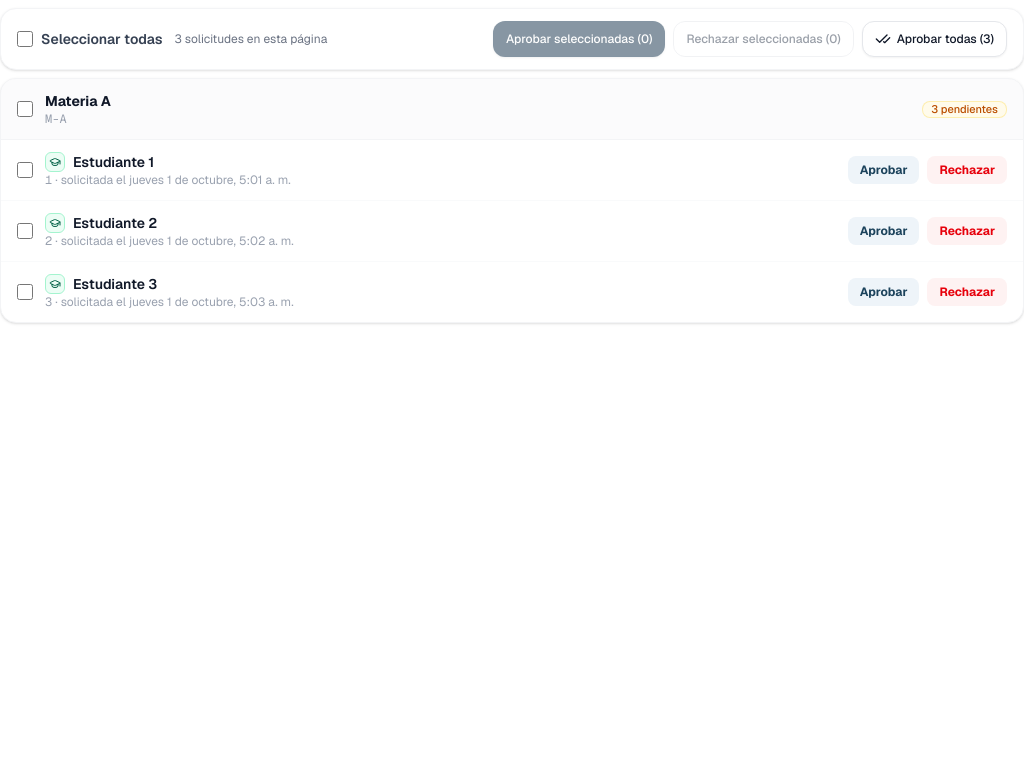
EnrollmentRequestsBoard › asks for confirmation, approves the selection and removes it from the list
What coordinates should you click on to do the following:
click the checkbox named "solicitud de Estudiante 1"
I would click on:
 (25, 170)
Its box is x1=17 y1=162 x2=33 y2=178.
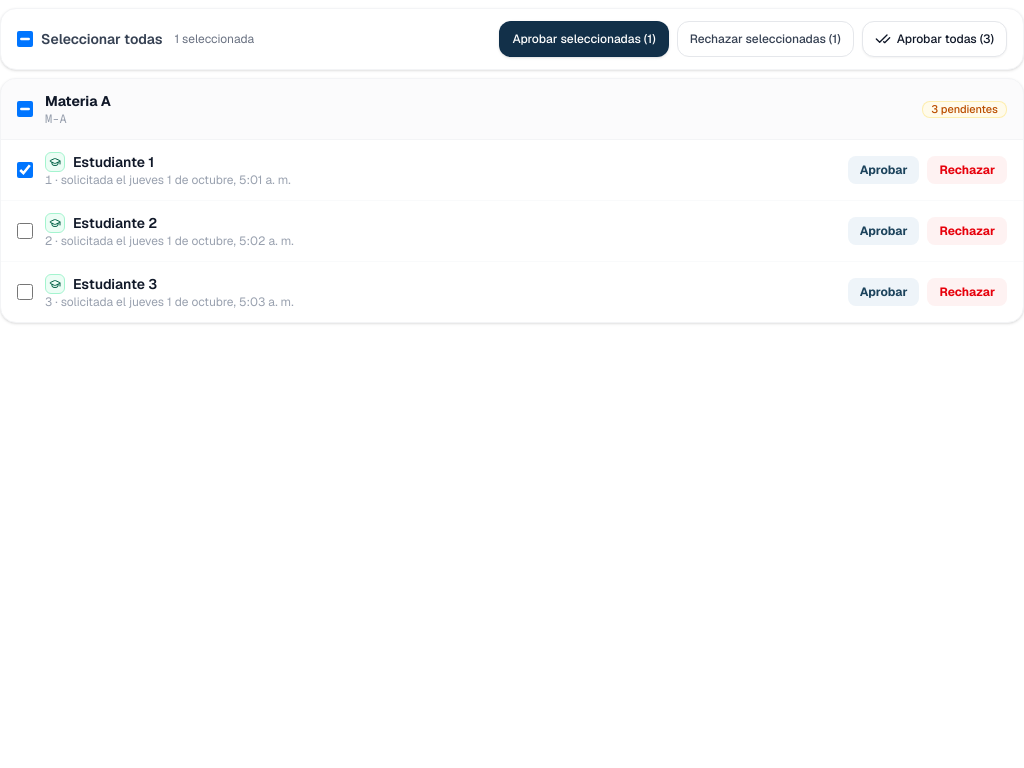
What coordinates should you click on to do the following:
click the checkbox named "solicitud de Estudiante 2"
I would click on:
 (25, 231)
Its box is x1=17 y1=223 x2=33 y2=239.
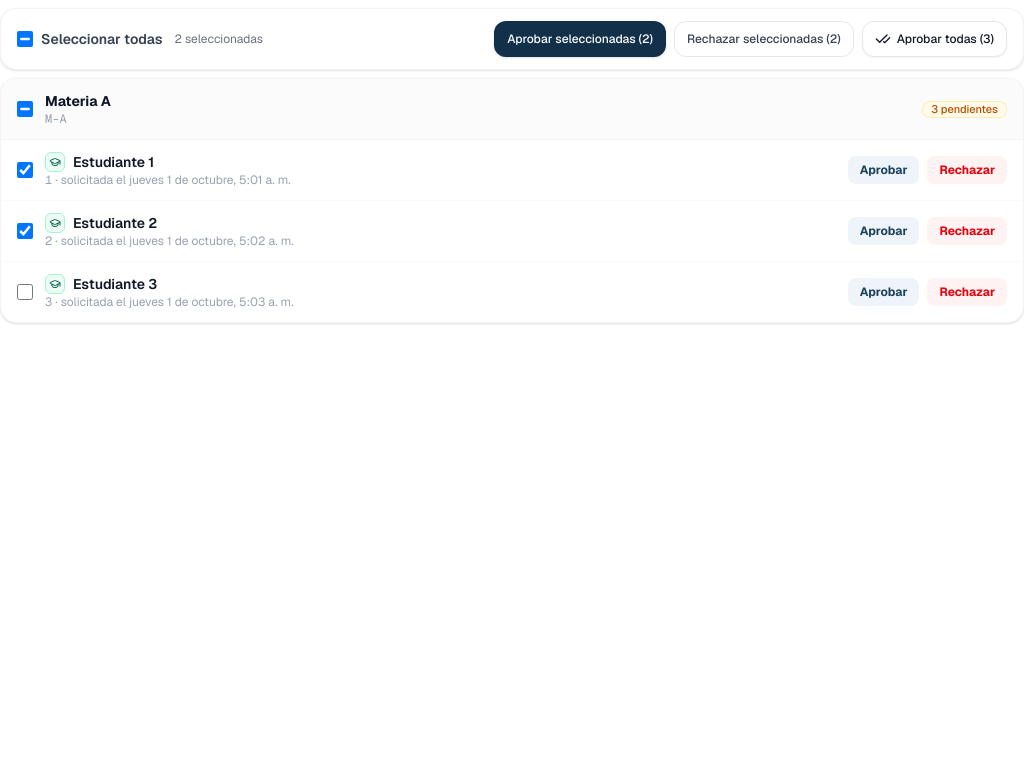
What coordinates should you click on to do the following:
click the button "Aprobar seleccionadas (2)"
I would click on:
 (580, 39)
Its box is x1=494 y1=21 x2=666 y2=57.
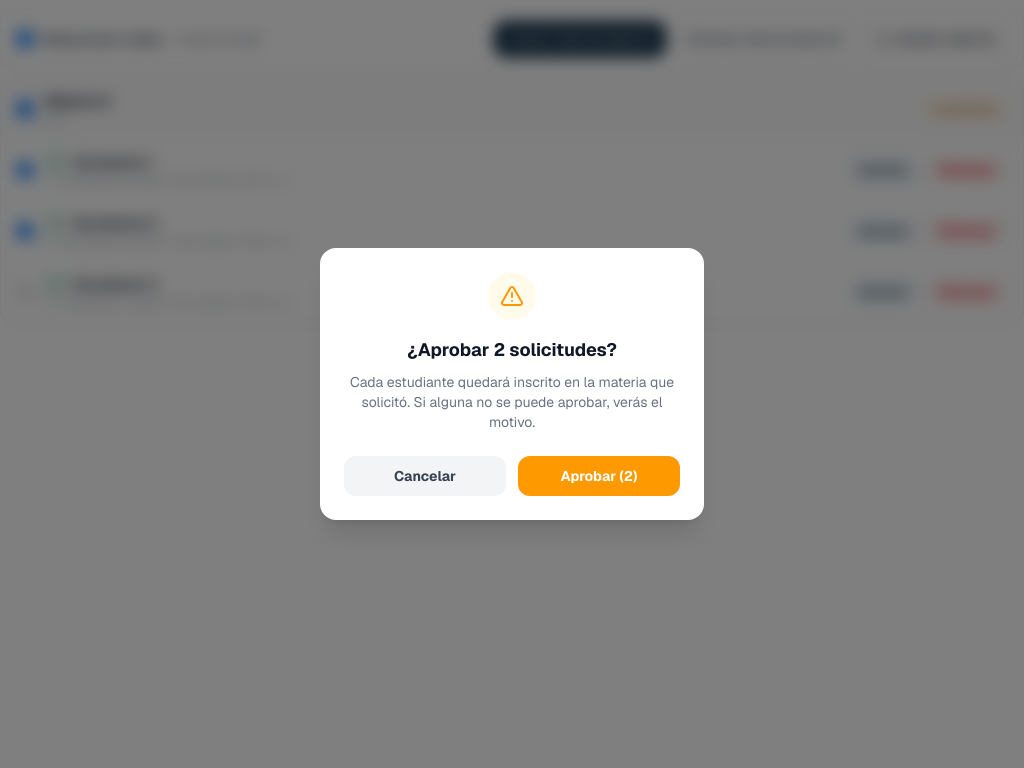
Now the dialog shows "¿Aprobar 2 solicitudes?", box x1=407 y1=338 x2=617 y2=361
What coordinates should you click on to do the following:
click the button "Aprobar (2)"
I would click on:
 (599, 476)
Its box is x1=518 y1=456 x2=680 y2=496.
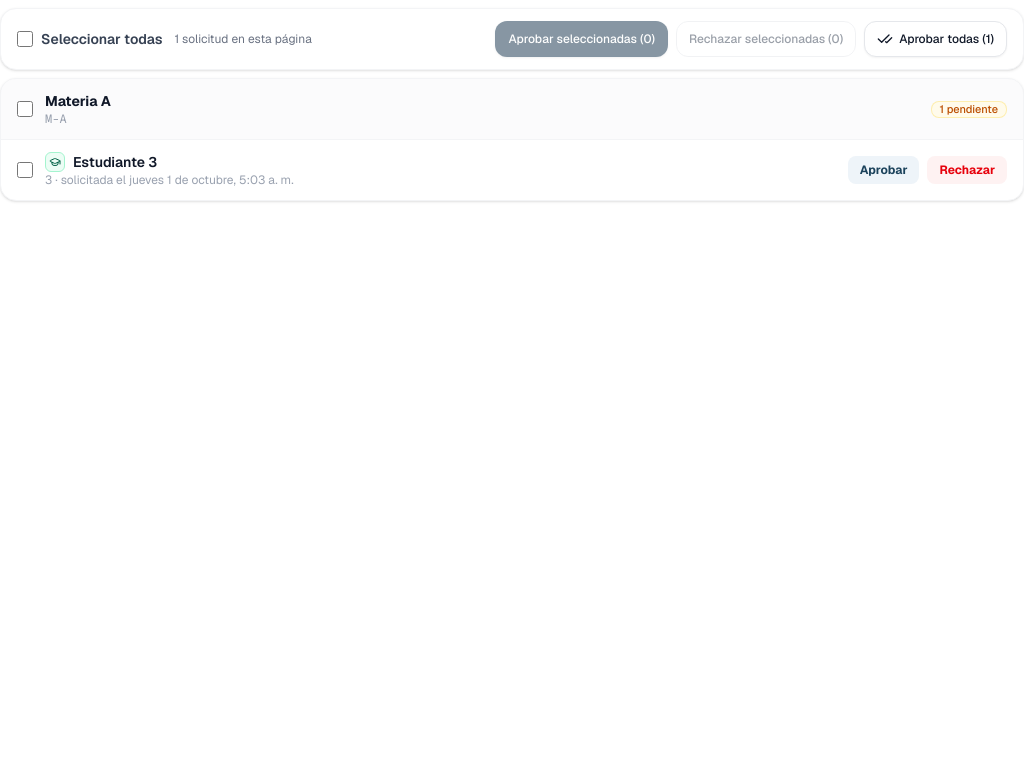
Expected: the text "Estudiante 3" is shown, x1=73 y1=152 x2=157 y2=172
Now the text "Estudiante 1" is gone
Now the dialog is gone
